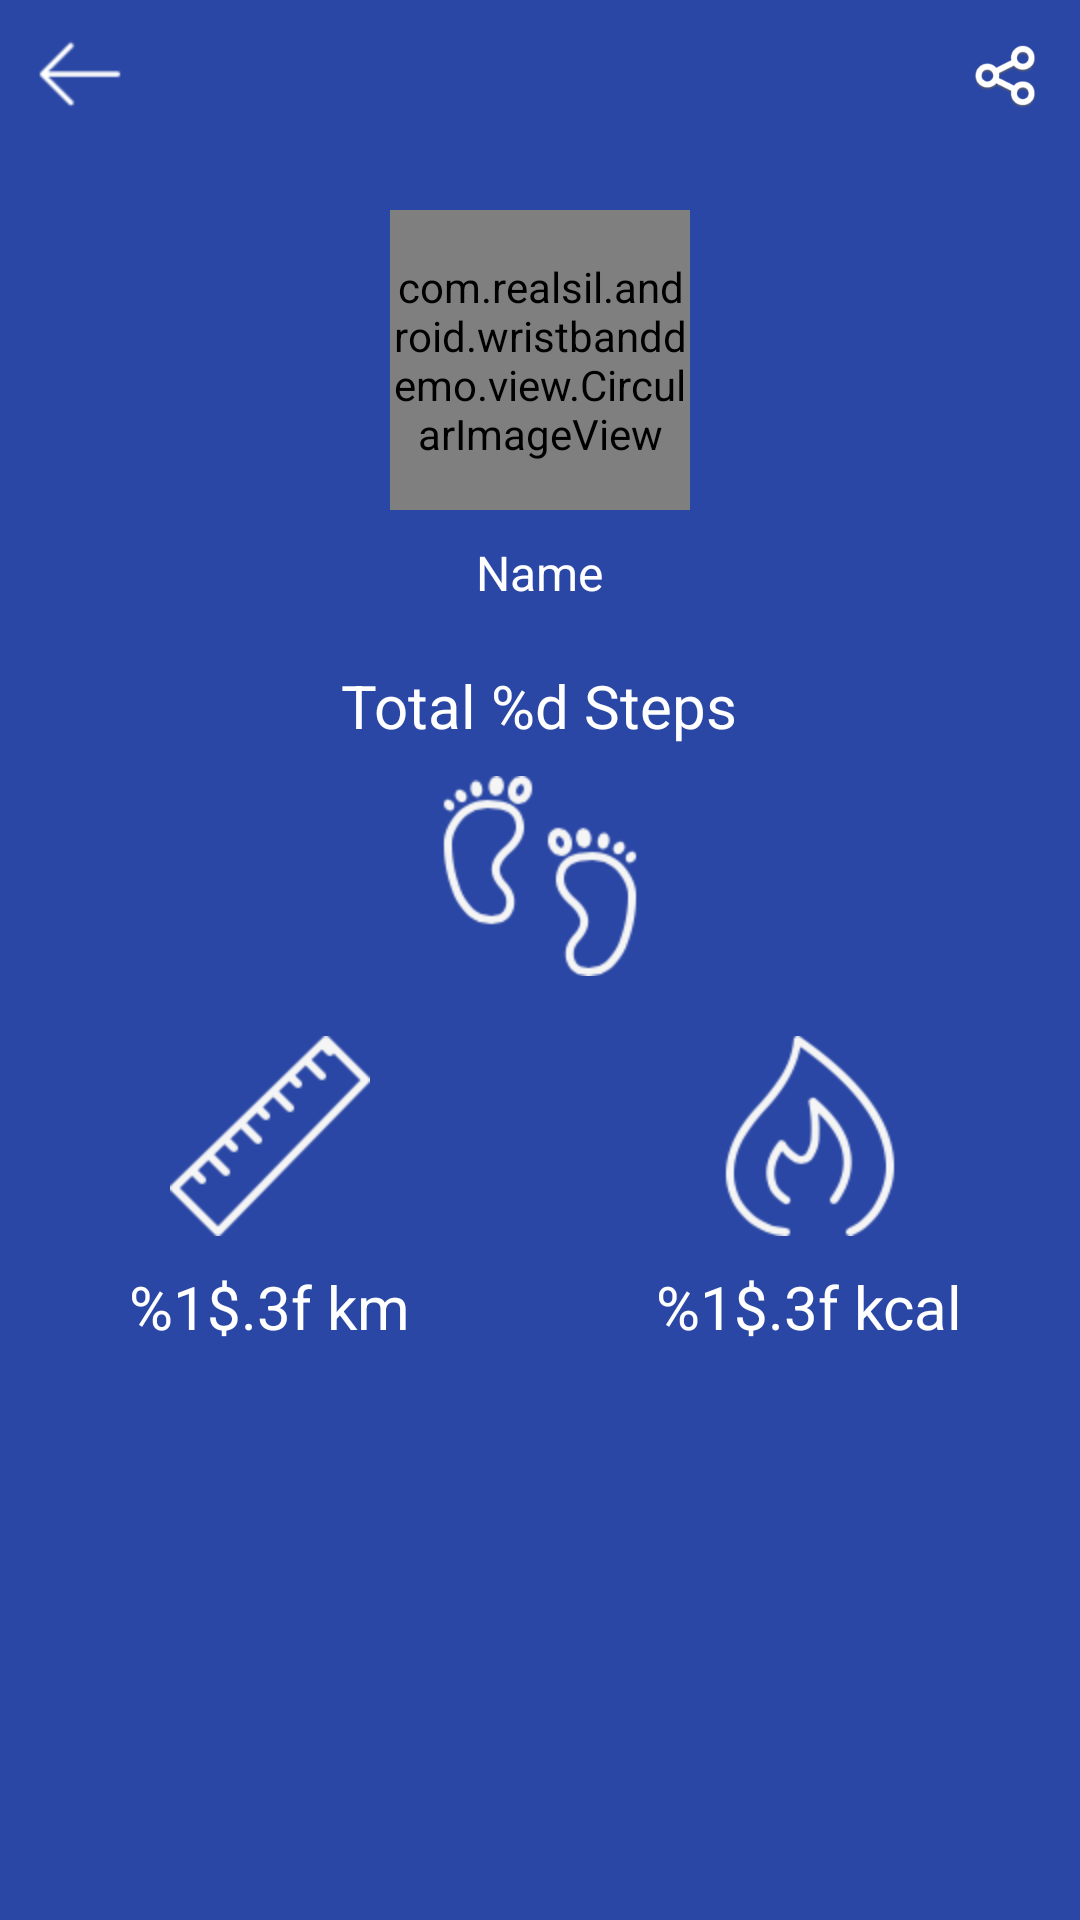

Icons on this 1080px x 1920px Android screen, each with its box as BBox(x1, y1, x2, y2):
back: BBox(39, 42, 121, 106)
share: BBox(975, 45, 1035, 107)
share calorias: BBox(725, 1036, 895, 1236)
share distance: BBox(170, 1036, 370, 1236)
share feet: BBox(443, 776, 637, 976)
